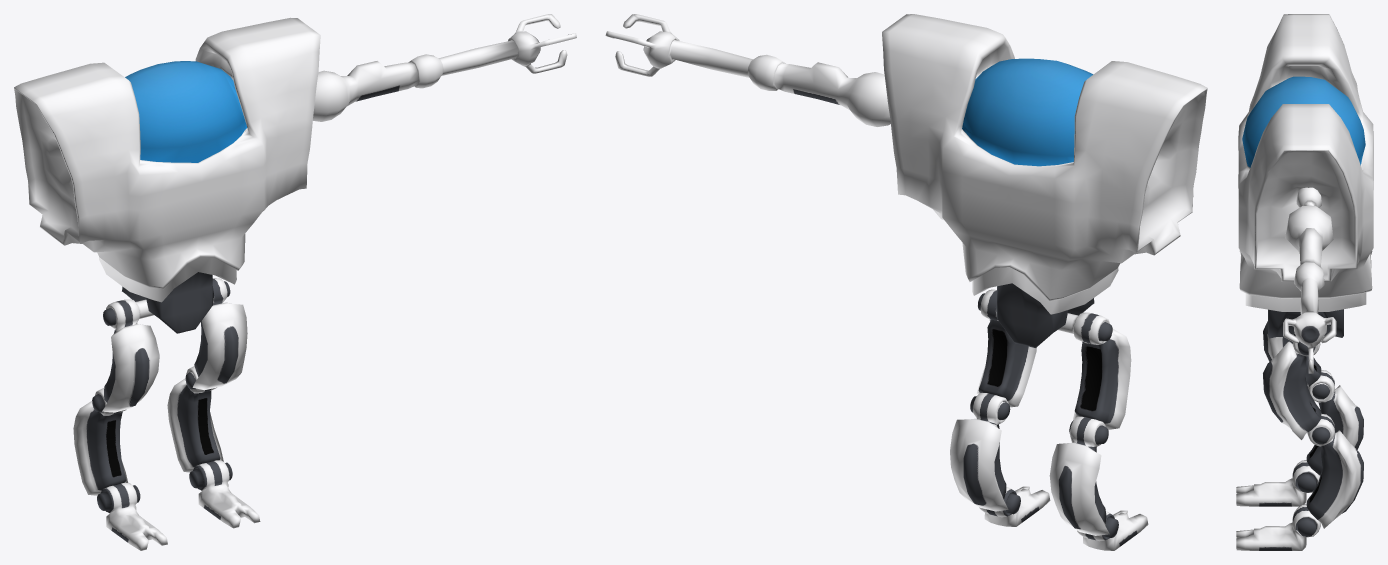
Rendered from ROBOTFBX.FBX.
3 renders of one model, left to right at view 1: azimuth 30°, elevation 25°; view 2: azimuth 150°, elevation 25°; view 3: azimuth 270°, elevation 25°, orthographic. The views are drawn at different scales.
Parts seen in each view (by area): view 1: Plane006, Group1, Group002aa, Group002, Plane009; view 2: Plane006, Group002aa, Group1, Group002, Plane009; view 3: Plane006, Group002aa, Group002, Plane009, Group1.
Part boxes in pixels (x1,y1,x2,y2): Plane006: (14,17,320,333); Group1: (102,278,247,412); Group002aa: (73,366,223,495); Group002: (312,14,576,121); Plane009: (97,460,260,550); Plane006: (882,14,1207,347); Group002aa: (950,392,1109,535); Group1: (976,289,1131,429); Group002: (605,14,890,126); Plane009: (979,486,1148,550); Plane006: (1238,14,1373,338); Group002aa: (1306,370,1363,528); Group002: (1283,187,1336,373); Plane009: (1236,460,1320,550); Group1: (1263,321,1321,439).
Bounding box in the file's own units: 94.03 × 74.98 × 20.92.
5 materials, 5 textured.
